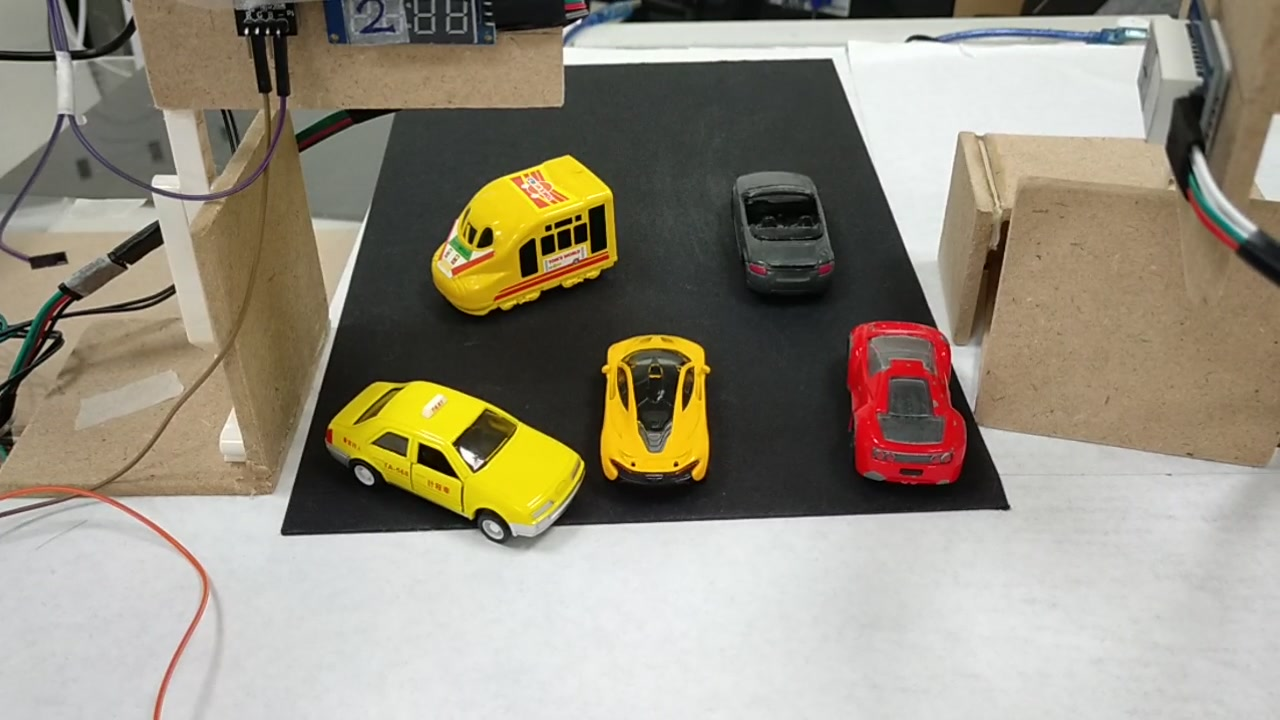car: (324, 385, 584, 535), (853, 324, 968, 487), (603, 343, 712, 489), (731, 172, 832, 294)
